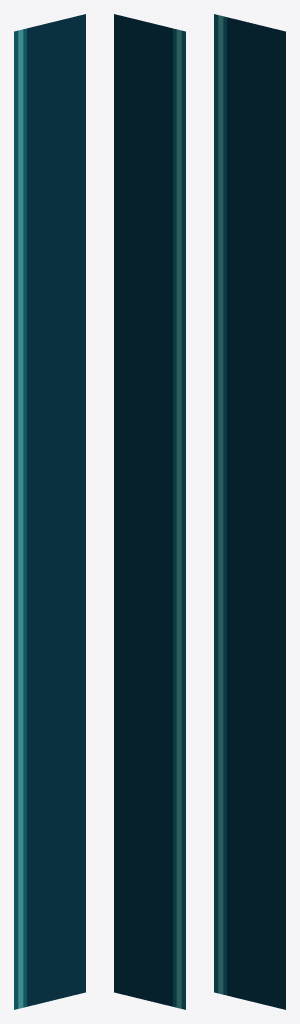
The model's file is SemiEPFLaserBeam.fbx.
3 renders of one model, left to right at view 1: azimuth 30°, elevation 25°; view 2: azimuth 150°, elevation 25°; view 3: azimuth 330°, elevation 25°, orthographic.
Parts seen in each view (by area): view 1: SemiEPFLaserBeam; view 2: SemiEPFLaserBeam; view 3: SemiEPFLaserBeam.
Boxes of the visible parts, box(x1,y1,x2,y2) form: SemiEPFLaserBeam: box(14, 14, 85, 1009); SemiEPFLaserBeam: box(114, 14, 185, 1009); SemiEPFLaserBeam: box(214, 14, 285, 1009).
Size of the model in its own units: 71.72 by 932 by 6.26e-05.
